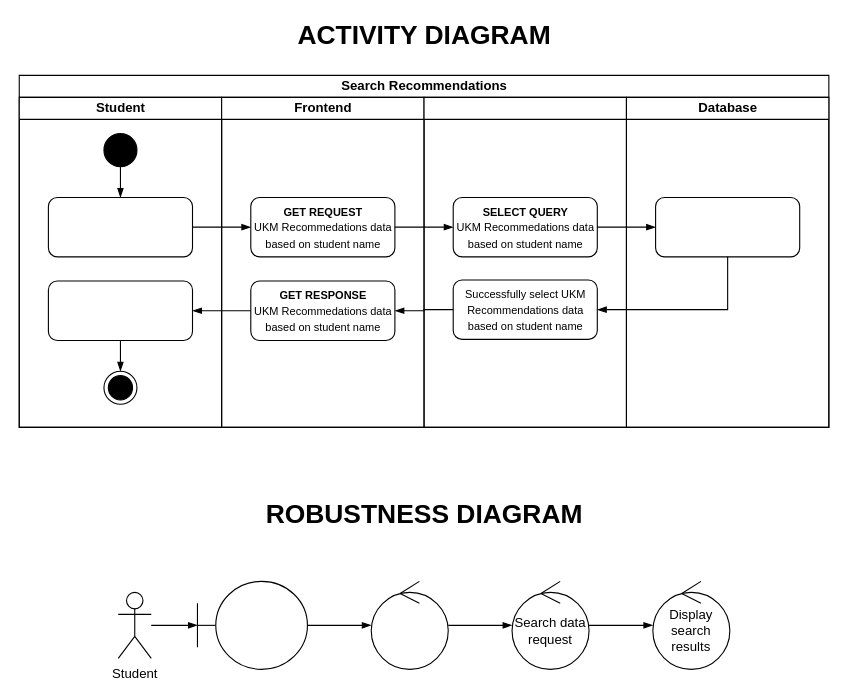
Image size: 848x700. Some labels were removed from this diagram. The box of each missing label's shape, as (x1, y1, x2, y2) in pixels:
Backend: (423, 96, 626, 427)
Display UKM Recommendations table: (370, 580, 448, 669)
INPUT Search data (student name): (47, 196, 193, 257)
Landing page: (196, 580, 307, 669)
Select UKM Recommedations data based on student name: (654, 196, 800, 257)
Show search results: (47, 280, 193, 340)
